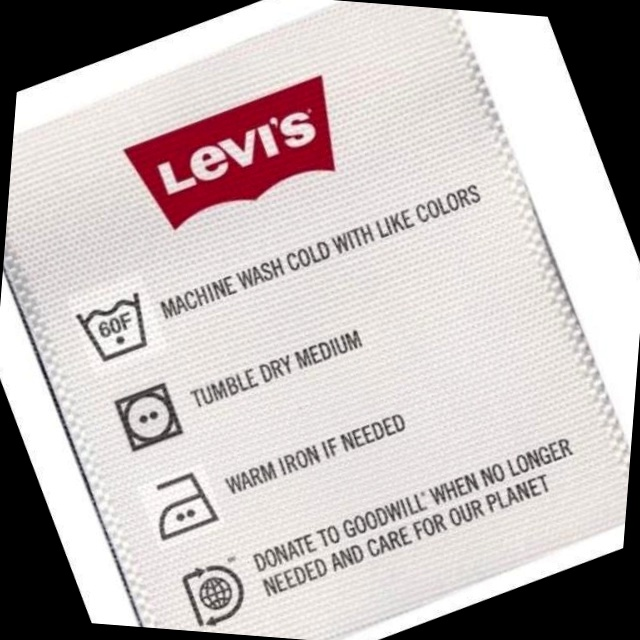30C: (75, 283, 154, 366)
iron_medium: (146, 464, 226, 545)
tumble_dry_medium: (111, 376, 191, 455)
